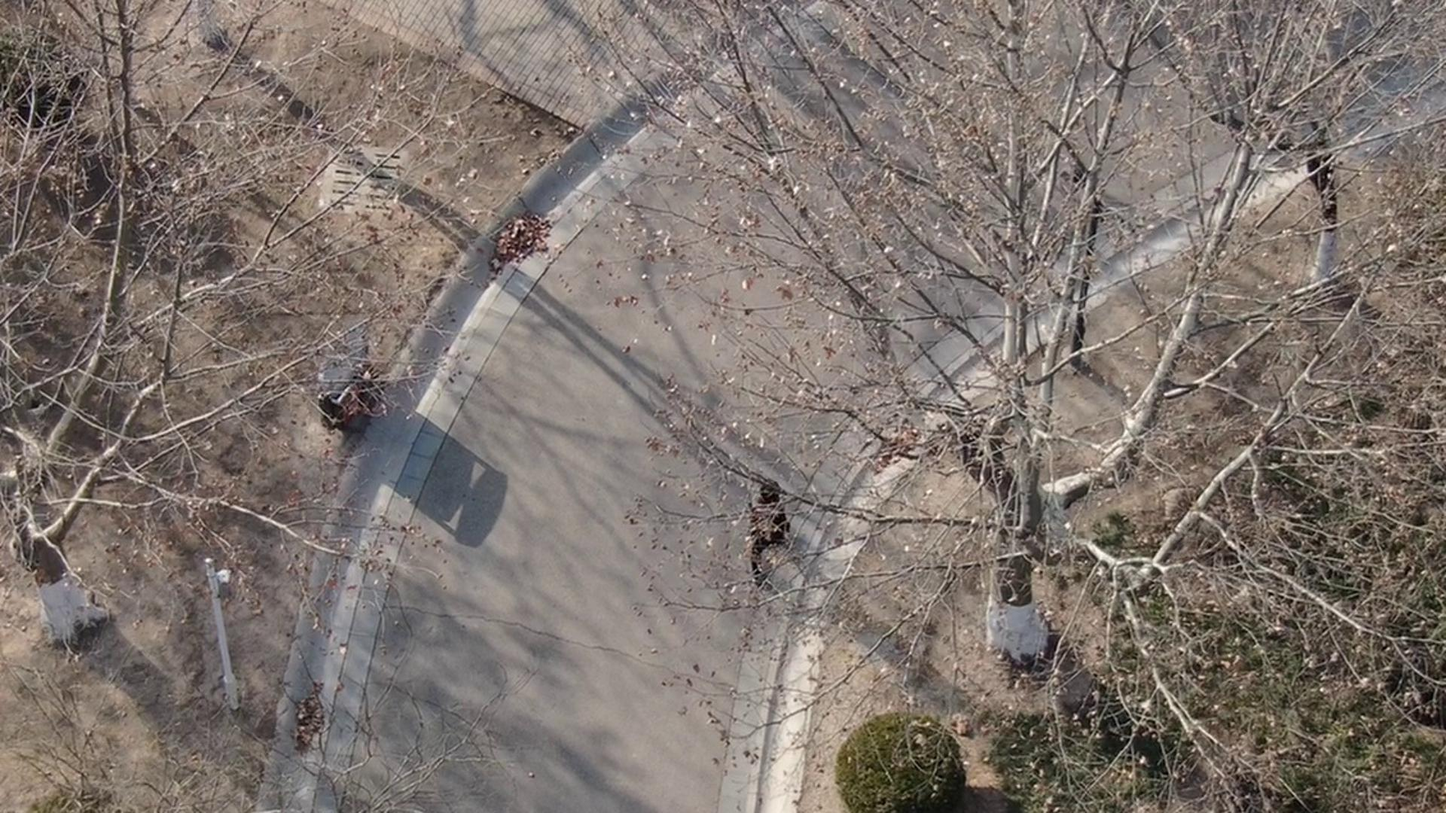human: (767, 482, 810, 569)
